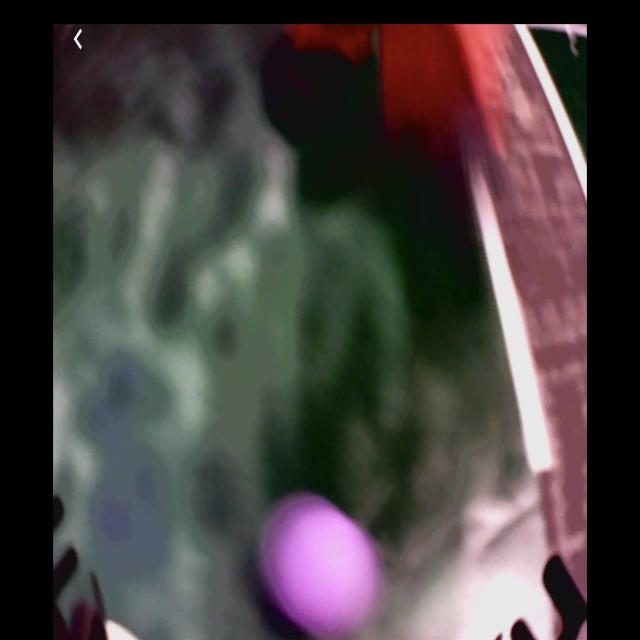ball: (284, 510, 374, 637)
